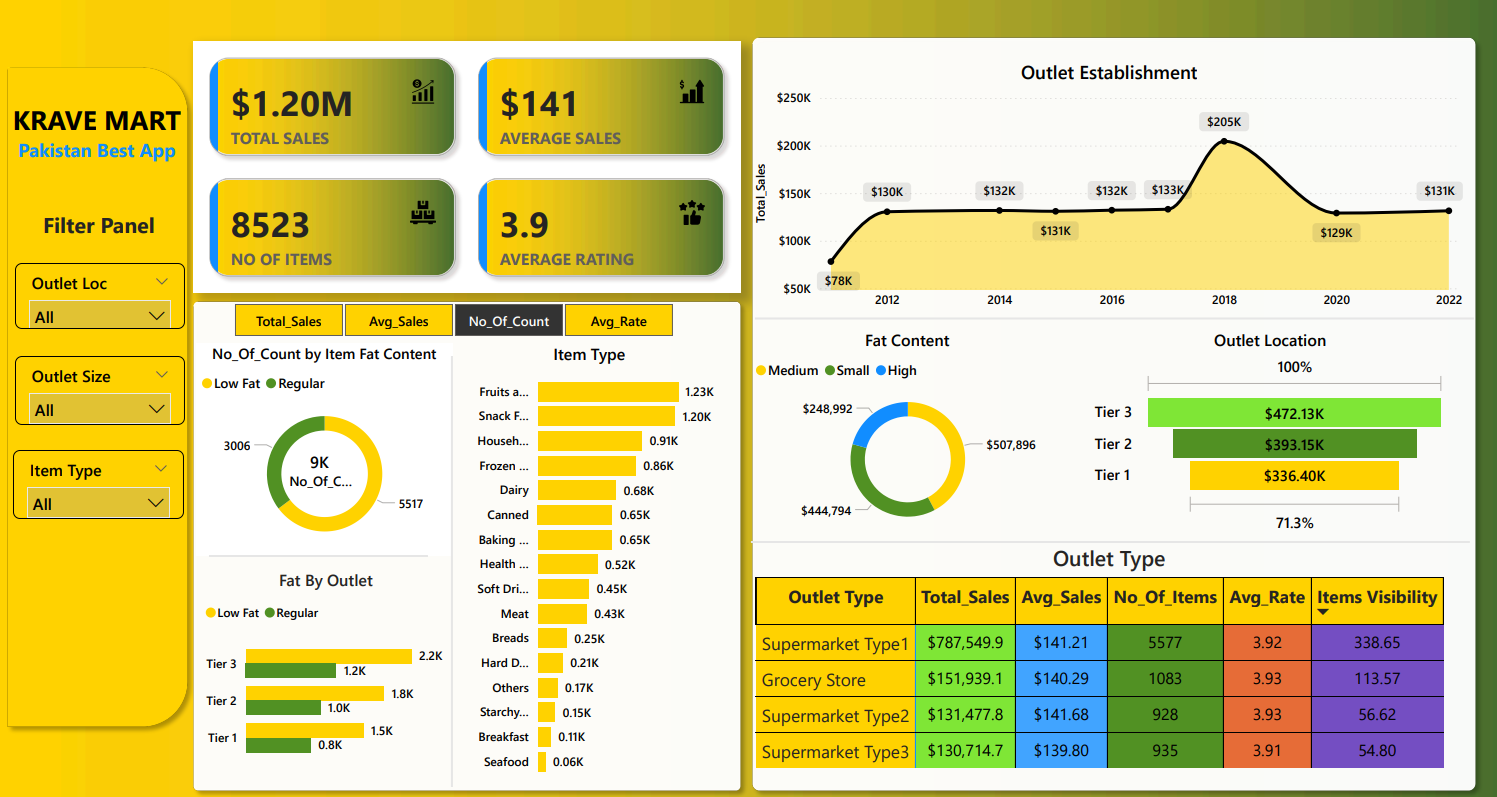

The dashboard page shown, as its layout file describes it:
{"tool":"powerbi","page":{"name":"Page 1","canvas":[1500,800],"ordinal":0},"visuals":[{"type":"shape","box":[0,60.3,197,676.1],"z":0},{"type":"textbox","box":[0,97.3,196.2,71.2],"z":1000},{"type":"cardVisual","fields":{"Data":["KRAVE Mart Grocery Data.Total_Sales","KRAVE Mart Grocery Data.Avg_Sales","KRAVE Mart Grocery Data.No_Of_Count","KRAVE Mart Grocery Data.Avg_Rate"]},"box":[194,42,548,252],"z":2000},{"type":"shape","box":[186,294,564,506],"z":3000},{"type":"donutChart","fields":{"Y":["KRAVE Mart Grocery Data.Total_Sales"],"Category":["KRAVE Mart Grocery Data.Item Fat Content"]},"box":[197,344.2,257.3,212.9],"z":4000},{"type":"slicer","fields":{"Values":["Parameter.Parameter"]},"box":[210,298,488,46],"z":5000},{"type":"cardVisual","fields":{"Data":["KRAVE Mart Grocery Data.Total_Sales"]},"box":[271.5,434.7,99.4,69.2],"z":6000},{"type":"clusteredBarChart","title":"Fat By Outlet","fields":{"Y":["KRAVE Mart Grocery Data.Total_Sales"],"Category":["KRAVE Mart Grocery Data.Outlet Location Type"],"Series":["KRAVE Mart Grocery Data.Item Fat Content"]},"box":[203.2,569.6,250.1,201.5],"z":7000},{"type":"shape","box":[210.1,543.6,218.8,26],"z":8000},{"type":"shape","box":[445.4,356.7,16,431.2],"z":9000},{"type":"barChart","title":"Item Type","fields":{"Y":["KRAVE Mart Grocery Data.Total_Sales"],"Category":["KRAVE Mart Grocery Data.Item Type"]},"box":[461.4,344.2,259.1,443.6],"z":10000},{"type":"shape","box":[745.3,30.2,739.9,770.1],"z":11000},{"type":"lineChart","title":"Outlet Establishment","fields":{"Y":["KRAVE Mart Grocery Data.Total_Sales"],"Category":["KRAVE Mart Grocery Data.Outlet Establishment Year"]},"box":[752.4,60.3,716.9,259.1],"z":12000},{"type":"shape","box":[752.4,537.7,718.7,10.6],"z":13000},{"type":"donutChart","title":"Fat Content","fields":{"Y":["KRAVE Mart Grocery Data.Total_Sales"],"Category":["KRAVE Mart Grocery Data.Outlet Size"]},"box":[750.6,330,315.9,209.4],"z":14000},{"type":"funnel","title":"Outlet Location","fields":{"Y":["KRAVE Mart Grocery Data.Total_Sales"],"Category":["KRAVE Mart Grocery Data.Outlet Location Type"]},"box":[1091.3,330,360.2,209.4],"z":15000},{"type":"pivotTable","title":"Outlet Type","fields":{"Rows":["KRAVE Mart Grocery Data.Outlet Type"],"Values":["KRAVE Mart Grocery Data.Total_Sales","KRAVE Mart Grocery Data.Avg_Sales","KRAVE Mart Grocery Data.No_Of_Count","KRAVE Mart Grocery Data.Avg_Rate","Sum(KRAVE Mart Grocery Data.Item Visibility)"]},"box":[768.3,543,716.9,248.4],"z":16000},{"type":"shape","box":[755.9,314.1,718.7,10.6],"z":17000},{"type":"slicer","fields":{"Values":["KRAVE Mart Grocery Data.Outlet Location Type"]},"box":[16,264.4,170.3,65.7],"z":18000},{"type":"slicer","fields":{"Values":["KRAVE Mart Grocery Data.Outlet Size"]},"box":[16,356.7,170.3,69.2],"z":19000},{"type":"slicer","fields":{"Values":["KRAVE Mart Grocery Data.Item Type"]},"box":[14.2,450.7,170.3,69.2],"z":20000},{"type":"textbox","box":[14.2,205.8,172.1,39],"z":21000}]}

Visuals, with their boxes in screenshot pixels (x1, y1, x2, y2), scaled from the page's 1500x800 canvas onto the 1497x797 screenshot:
shape: 0:60:197:734
textbox: 0:97:196:168
cardVisual - KRAVE Mart Grocery Data.Total_Sales x KRAVE Mart Grocery Data.Avg_Sales: 194:42:741:293
shape: 186:293:748:796
donutChart - KRAVE Mart Grocery Data.Total_Sales x KRAVE Mart Grocery Data.Item Fat Content: 197:343:453:555
slicer - Parameter.Parameter: 210:297:697:343
cardVisual - KRAVE Mart Grocery Data.Total_Sales: 271:433:370:502
"Fat By Outlet" clusteredBarChart: 203:567:452:768
shape: 210:542:428:567
shape: 445:355:460:785
"Item Type" barChart: 460:343:719:785
shape: 744:30:1482:796
"Outlet Establishment" lineChart: 751:60:1466:318
shape: 751:536:1468:546
"Fat Content" donutChart: 749:329:1064:537
"Outlet Location" funnel: 1089:329:1449:537
"Outlet Type" pivotTable: 767:541:1482:788
shape: 754:313:1472:323
slicer - KRAVE Mart Grocery Data.Outlet Location Type: 16:263:186:329
slicer - KRAVE Mart Grocery Data.Outlet Size: 16:355:186:424
slicer - KRAVE Mart Grocery Data.Item Type: 14:449:184:518
textbox: 14:205:186:244
